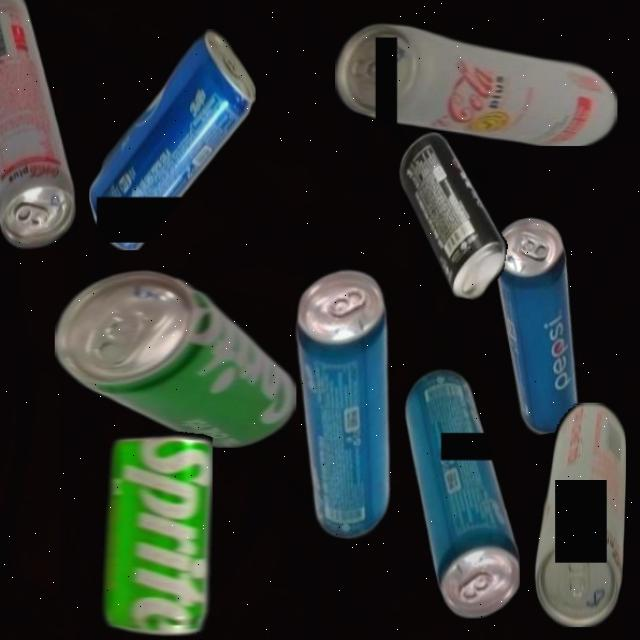debris: (260, 261, 428, 545), (55, 268, 296, 448), (88, 28, 256, 250), (335, 22, 617, 146), (64, 430, 212, 636), (402, 368, 520, 618), (380, 128, 524, 304), (487, 213, 596, 437), (534, 402, 626, 627), (0, 0, 76, 250)
